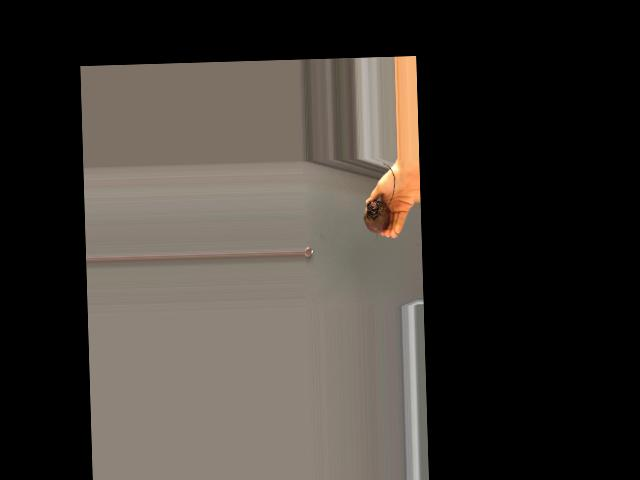beet: (362, 163, 397, 242)
